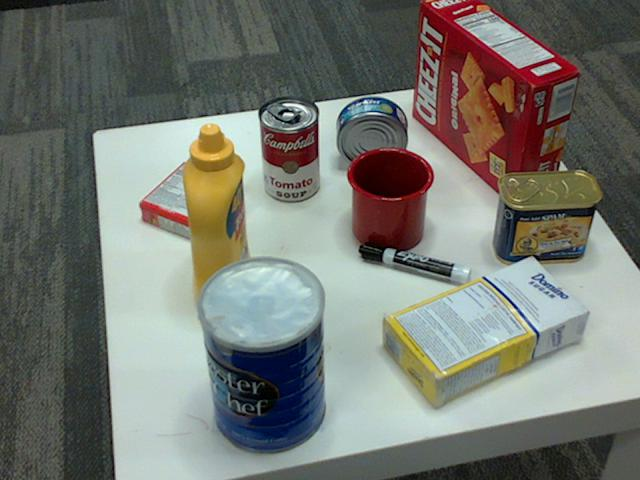cracker_box: (412, 0, 579, 204)
gelatin_box: (137, 159, 235, 237)
large_marker: (359, 242, 471, 289)
master_chef_can: (195, 259, 325, 457)
mug: (344, 146, 432, 251)
mustard_bottle: (179, 124, 250, 310)
potted_meat_can: (491, 171, 599, 266)
sugar_box: (379, 255, 586, 407)
tomato_soup_can: (257, 96, 318, 202)
tuna_fish_can: (335, 96, 406, 169)
